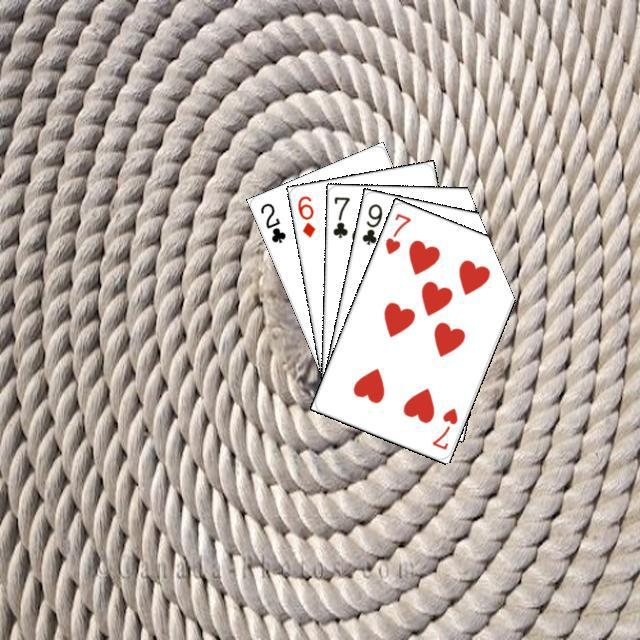2c: (255, 198, 288, 245)
6d: (293, 191, 317, 239)
7c: (328, 192, 351, 240)
7h: (380, 208, 413, 256), (427, 403, 459, 452)
9c: (357, 199, 384, 246)
